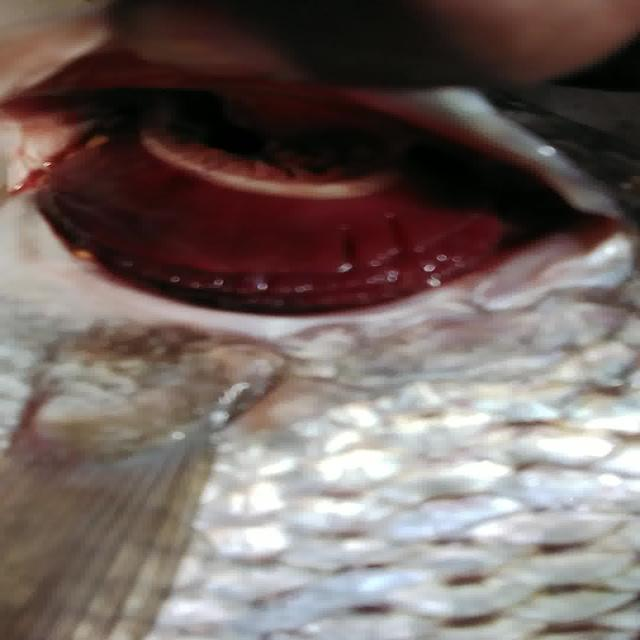Fresh: (18, 78, 615, 324)
